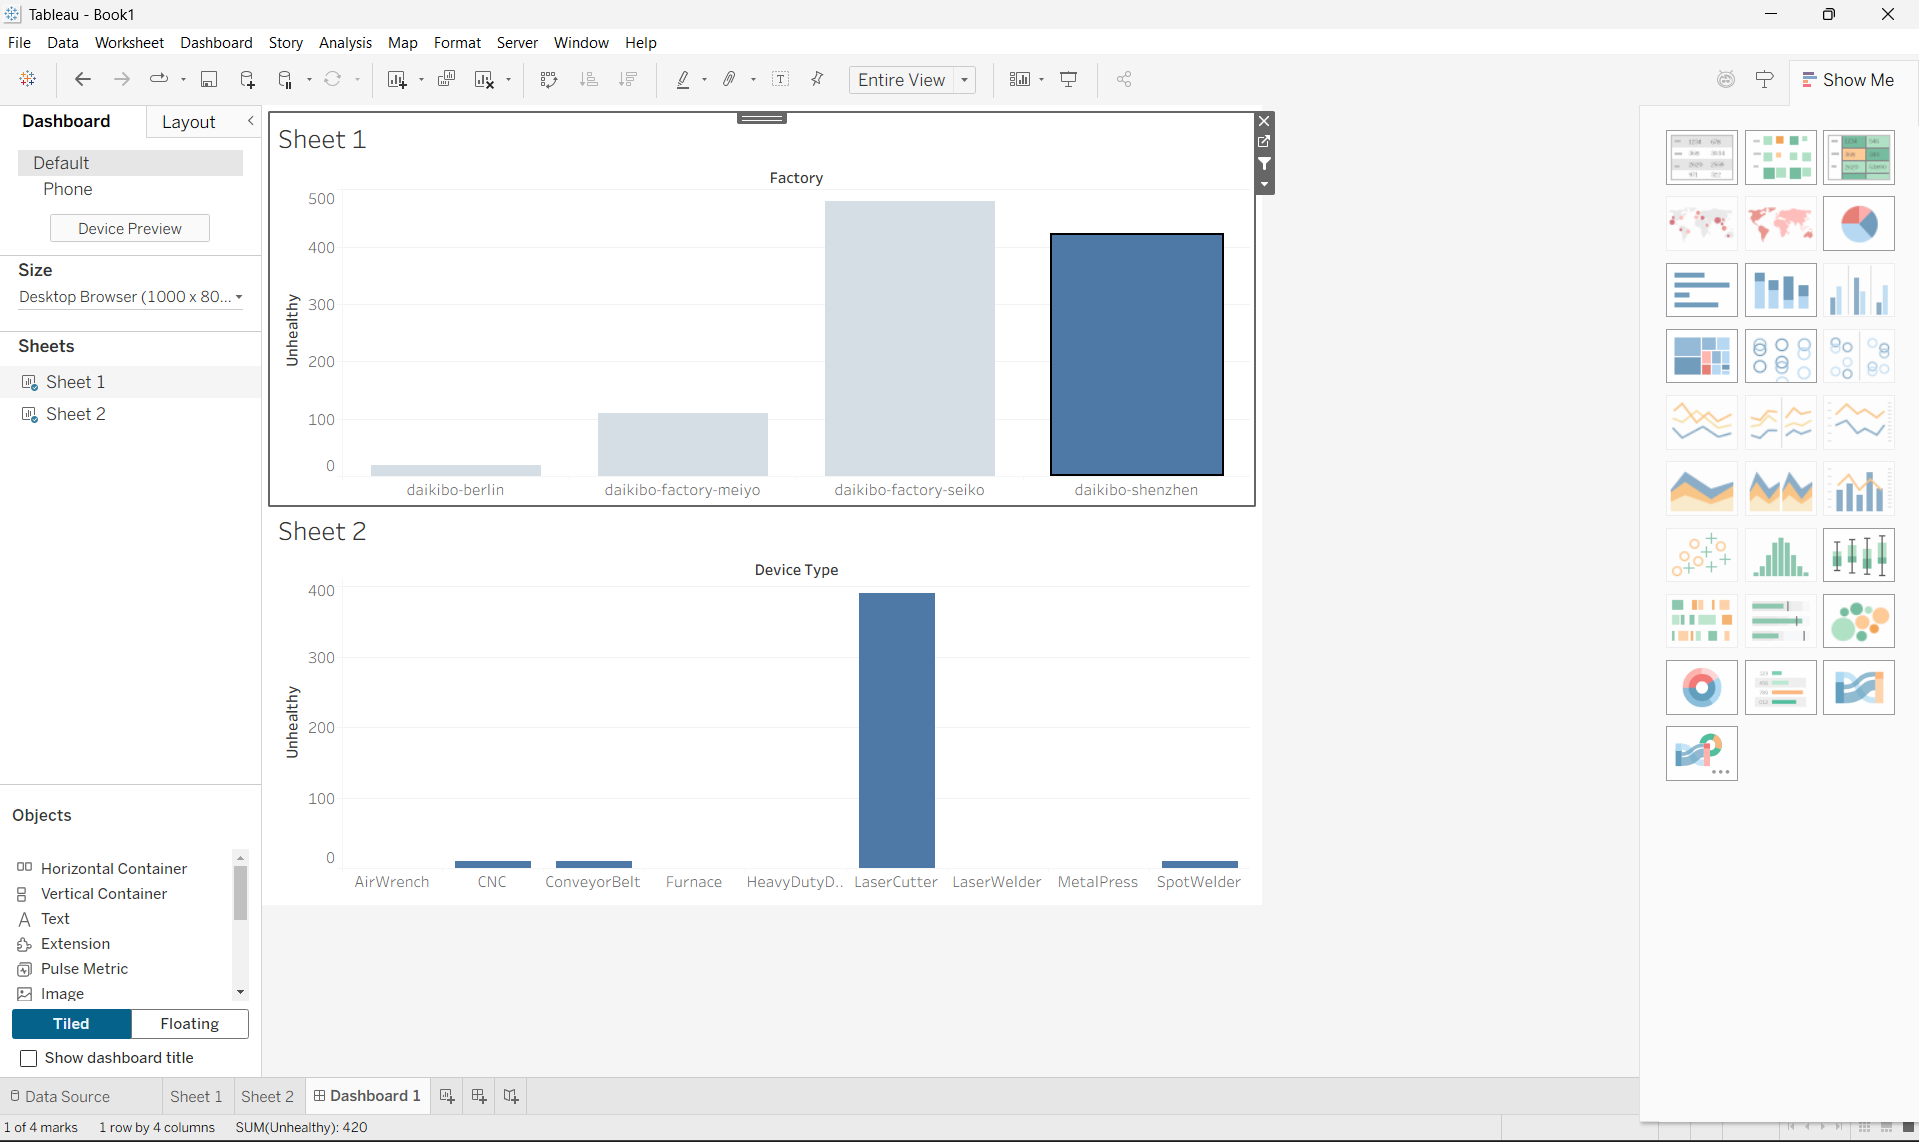

This screenshot's page, from the dashboard's own definition file:
{"tool":"tableau","page":{"name":"Dashboard 1","canvas":[1000,800],"ordinal":0},"visuals":[{"type":"worksheet","title":"Sheet 1","mark":"Automatic","rows":["Calculation_0494238752059392"],"cols":["factory"],"box":[8,8,984,392]},{"type":"worksheet","title":"Sheet 2","mark":"Automatic","rows":["Calculation_0494238752059392"],"cols":["deviceType"],"box":[8,400,984,392]}]}

Visuals, with their boxes on the page's 1000x800 design canvas (x1, y1, x2, y2). These are canvas units, not pixel positions in the 1919x1142 screenshot, which may show the page scaled, cropped or inside an application window:
"Sheet 1" worksheet: pyautogui.locateOnScreen(8, 8, 992, 400)
"Sheet 2" worksheet: pyautogui.locateOnScreen(8, 400, 992, 792)
